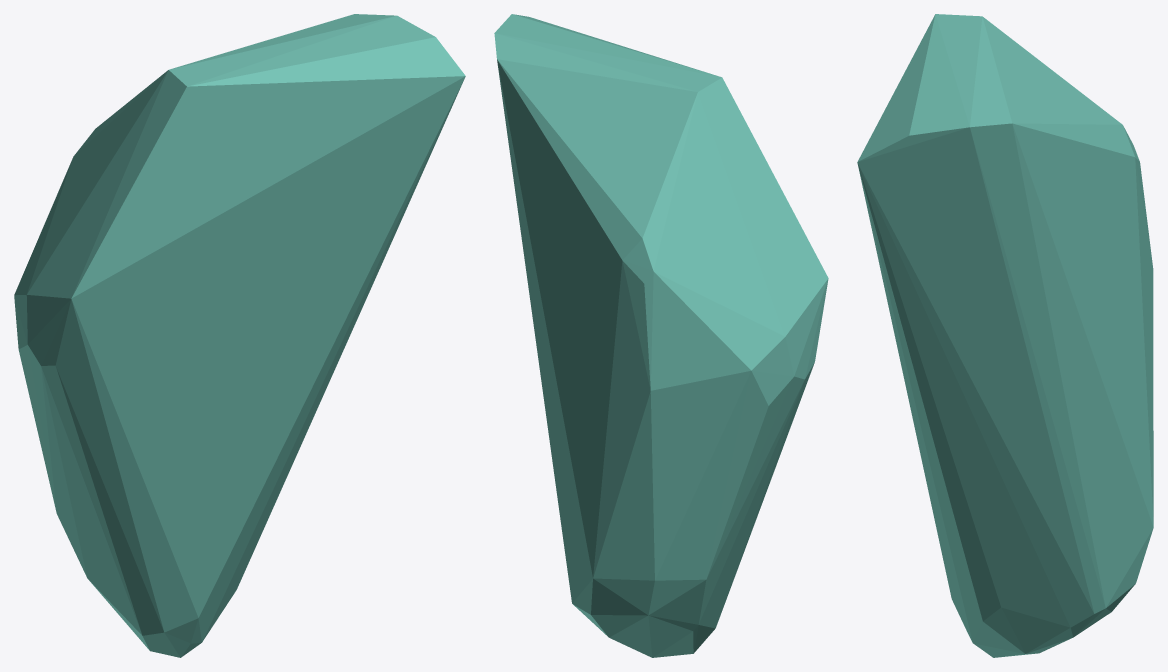
Rendered from food_produce_sweetPotato_d01.glb.
3 views of the same model, side by side, from view 1: azimuth 30°, elevation 25°; view 2: azimuth 150°, elevation 25°; view 3: azimuth 270°, elevation 25° (orthographic). The views are drawn at different scales.
Visible parts, largest first — view 1: geometry_0; view 2: geometry_0; view 3: geometry_0.
Part boxes in pixels (x1,y1,x2,y2): geometry_0: [14, 14, 465, 657]; geometry_0: [494, 14, 828, 657]; geometry_0: [857, 14, 1153, 657].
Size of the model in its own units: 0.2946 by 0.4695 by 0.198.
